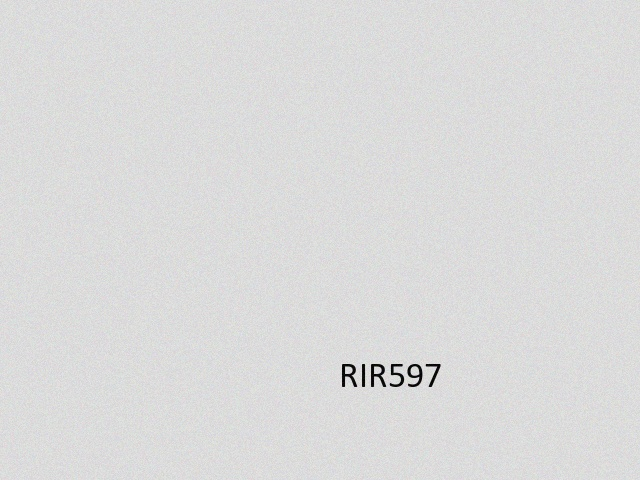OCR_AREA: (335, 360, 446, 391)
